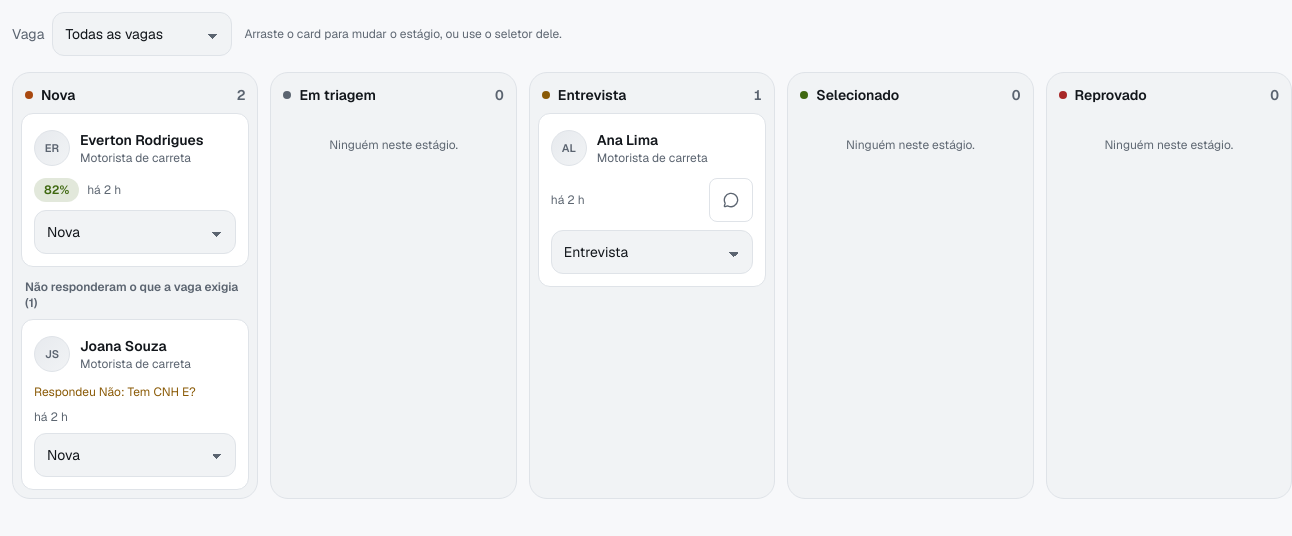
quadro do funil › se o servidor recusar, o card volta e o motivo aparece nele
Select "Selecionado" in the dropdown named "Estágio da candidatura de Everton Rodrigues": [135, 232] box x1=34 y1=210 x2=236 y2=254
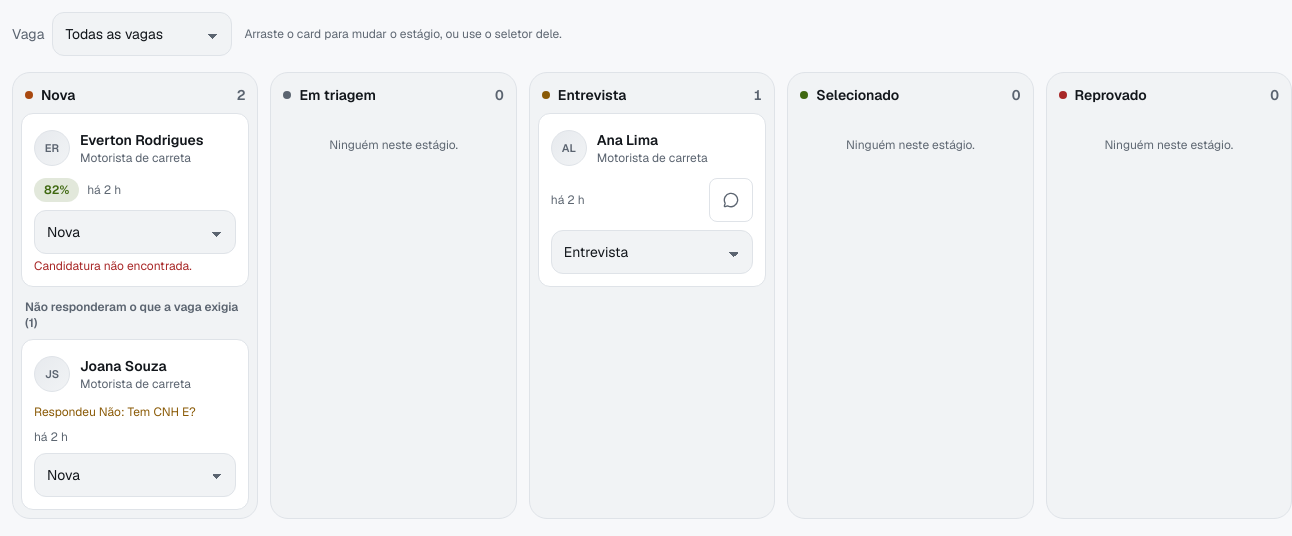
Expected: the text "Everton Rodrigues" is shown, x1=80 y1=131 x2=204 y2=149
Expected: the message reads "Candidatura não encontrada.", x1=34 y1=258 x2=192 y2=274
